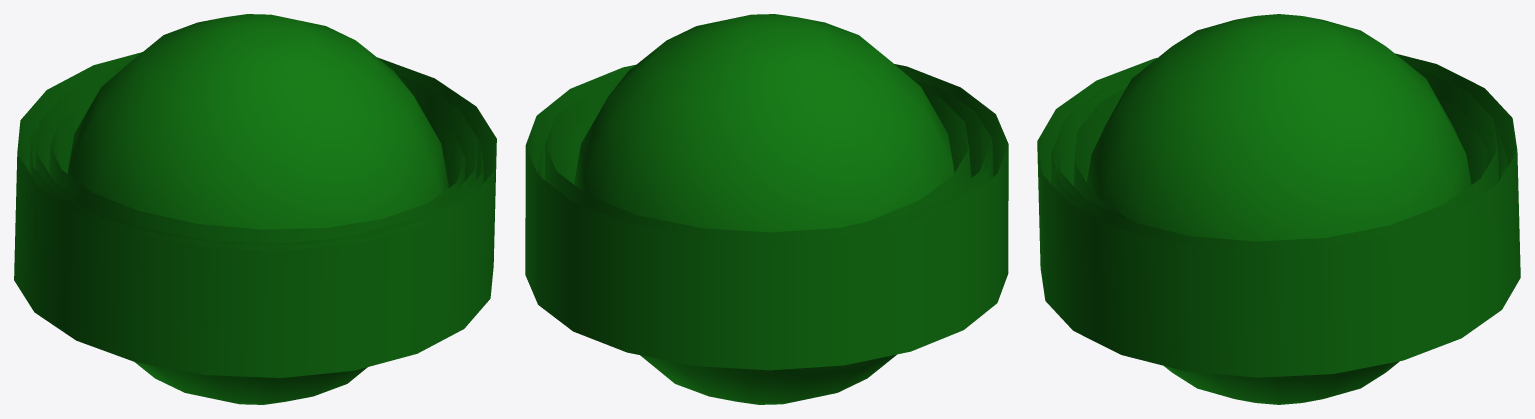
File: virus.fbx
The picture shows the model from 3 angles, left to right: view 1: azimuth 30°, elevation 25°; view 2: azimuth 150°, elevation 25°; view 3: azimuth 270°, elevation 25°; orthographic projection.
Visible parts, largest first — view 1: pSphere1, pCylinder4, pCylinder1, pCylinder2, pCylinder3; view 2: pSphere1, pCylinder4, pCylinder2, pCylinder1, pCylinder3; view 3: pSphere1, pCylinder4, pCylinder2, pCylinder1, pCylinder3.
Boxes of the visible parts, bbox=[...] form: pSphere1: bbox=[67, 14, 448, 404]; pCylinder4: bbox=[14, 52, 496, 377]; pCylinder1: bbox=[49, 99, 465, 243]; pCylinder2: bbox=[36, 65, 477, 244]; pCylinder3: bbox=[29, 127, 483, 250]; pSphere1: bbox=[574, 14, 954, 404]; pCylinder4: bbox=[525, 64, 1008, 370]; pCylinder2: bbox=[545, 78, 989, 240]; pCylinder1: bbox=[556, 91, 971, 228]; pCylinder3: bbox=[537, 79, 993, 216]; pSphere1: bbox=[1086, 14, 1471, 404]; pCylinder4: bbox=[1037, 53, 1520, 377]; pCylinder2: bbox=[1056, 67, 1498, 250]; pCylinder1: bbox=[1074, 87, 1486, 222]; pCylinder3: bbox=[1051, 76, 1507, 229].
Bounding box in the file's own units: 73.43 × 60 × 73.65.
